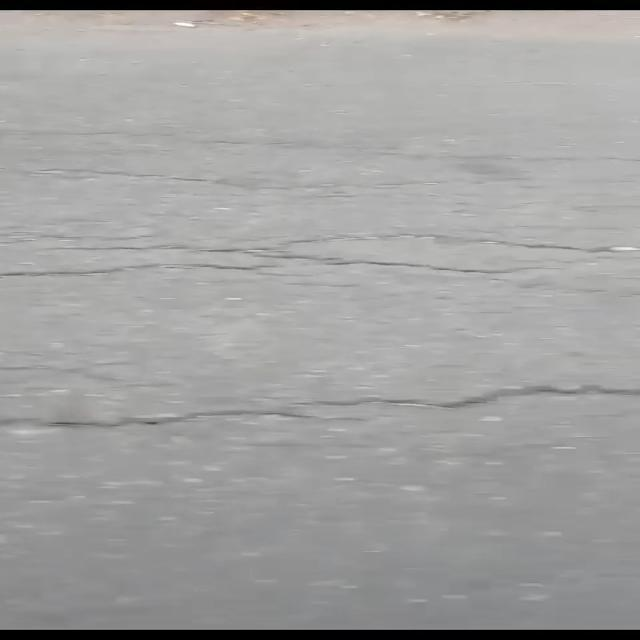Melintang: (0, 372, 640, 446)
